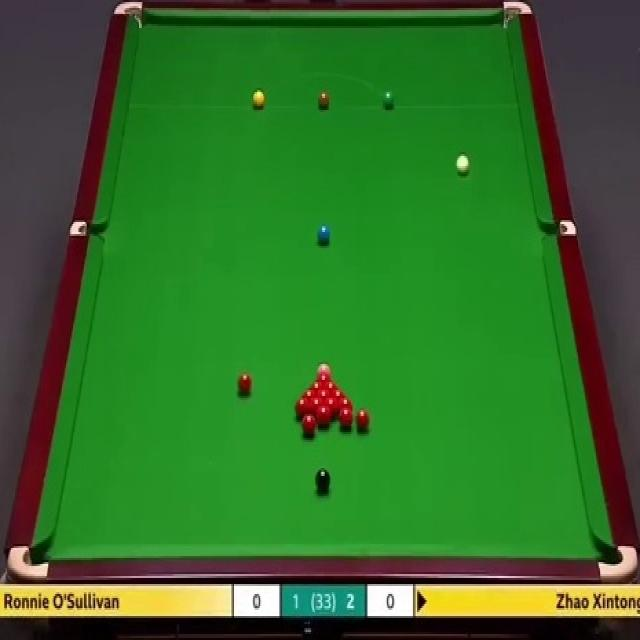pocket: (7, 543, 50, 585), (596, 542, 640, 582), (111, 0, 145, 32), (500, 0, 532, 29), (540, 218, 577, 237), (69, 220, 104, 235)
